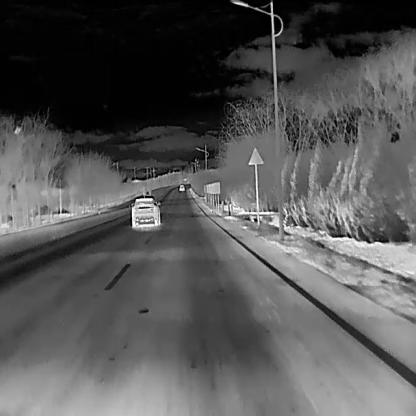car: (130, 196, 160, 226), (178, 184, 184, 190)
